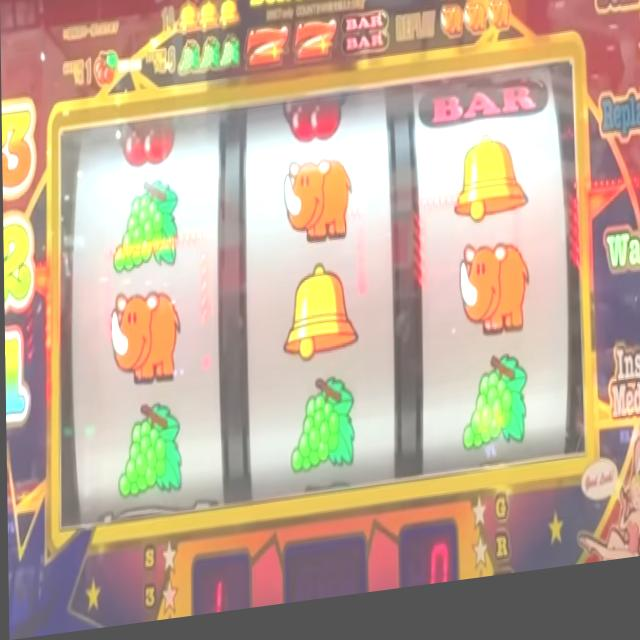bar: (416, 81, 550, 145), (340, 16, 391, 72)
bell: (279, 268, 358, 371), (452, 141, 528, 243), (178, 1, 199, 41), (219, 0, 238, 35), (201, 2, 218, 37)
cherry: (281, 100, 350, 156), (116, 122, 177, 173), (93, 53, 118, 89)
clown: (438, 0, 463, 12), (488, 0, 512, 8), (465, 0, 485, 7)
display: (54, 56, 585, 530)
elephant: (109, 288, 182, 393), (458, 248, 529, 354), (282, 158, 353, 258), (438, 16, 462, 57), (488, 10, 512, 48), (463, 15, 486, 48)
grape: (459, 359, 528, 471), (287, 380, 356, 489), (115, 396, 182, 506), (112, 179, 179, 282), (174, 43, 200, 83), (201, 42, 221, 82), (221, 42, 241, 79)
z: (245, 27, 289, 80), (294, 22, 338, 75)
